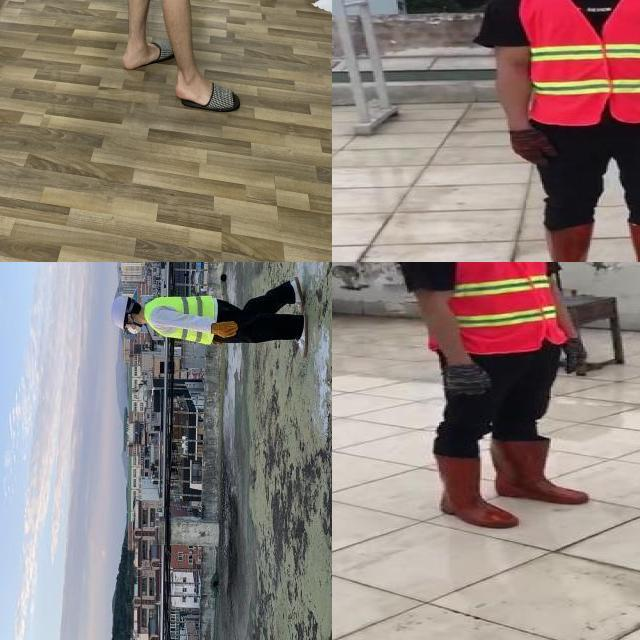Sandals: (163, 70, 252, 126), (112, 37, 180, 80)
boots: (420, 450, 522, 531), (494, 434, 592, 504), (535, 226, 597, 262), (292, 315, 310, 361), (287, 276, 306, 314)
hand_glove: (437, 362, 494, 399), (553, 338, 588, 378)
head_helmet: (109, 294, 131, 331)
person: (377, 262, 628, 537), (480, 0, 640, 262), (100, 268, 316, 366)
vest: (519, 0, 640, 124), (407, 262, 565, 355), (143, 294, 218, 349)
